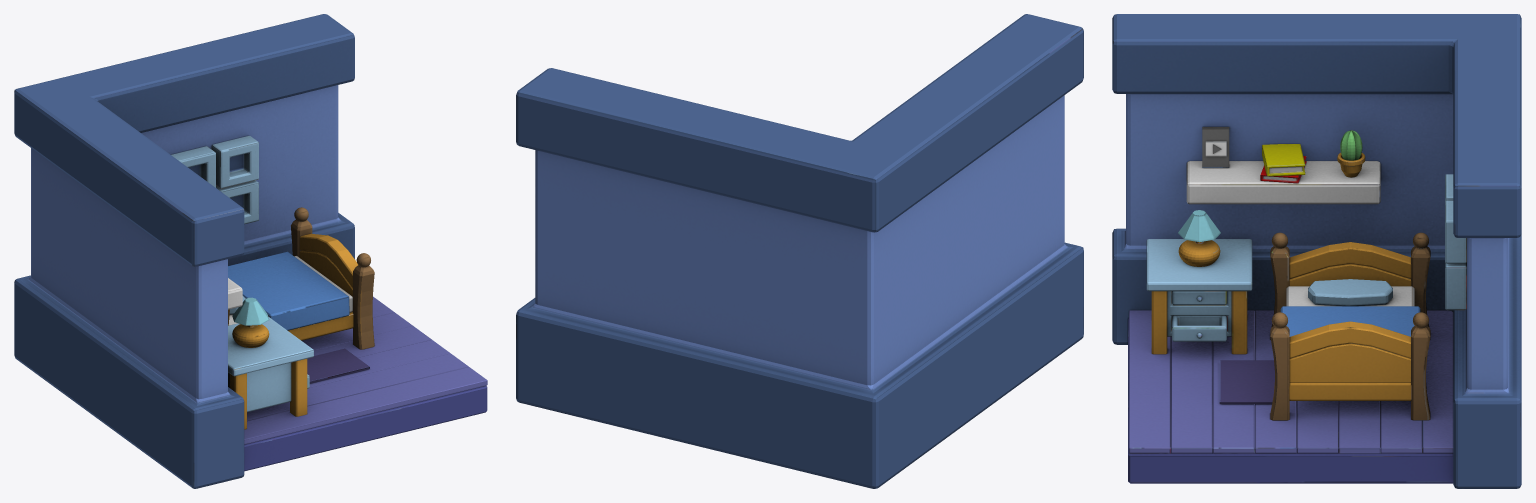
Rendered from quarto.glb.
The picture shows the model from 3 angles, left to right: view 1: azimuth 30°, elevation 25°; view 2: azimuth 150°, elevation 25°; view 3: azimuth 270°, elevation 25°; orthographic projection. The views are drawn at different scales.
Parts seen in each view (by area): view 1: Plane.007; view 2: Plane.007; view 3: Plane.007.
Part boxes in pixels (x1,y1,x2,y2): Plane.007: (14, 14, 487, 488); Plane.007: (516, 14, 1083, 488); Plane.007: (1112, 14, 1521, 488).
Size of the model in its own units: 2.42 by 2 by 2.42.
1 material, 1 textured.
